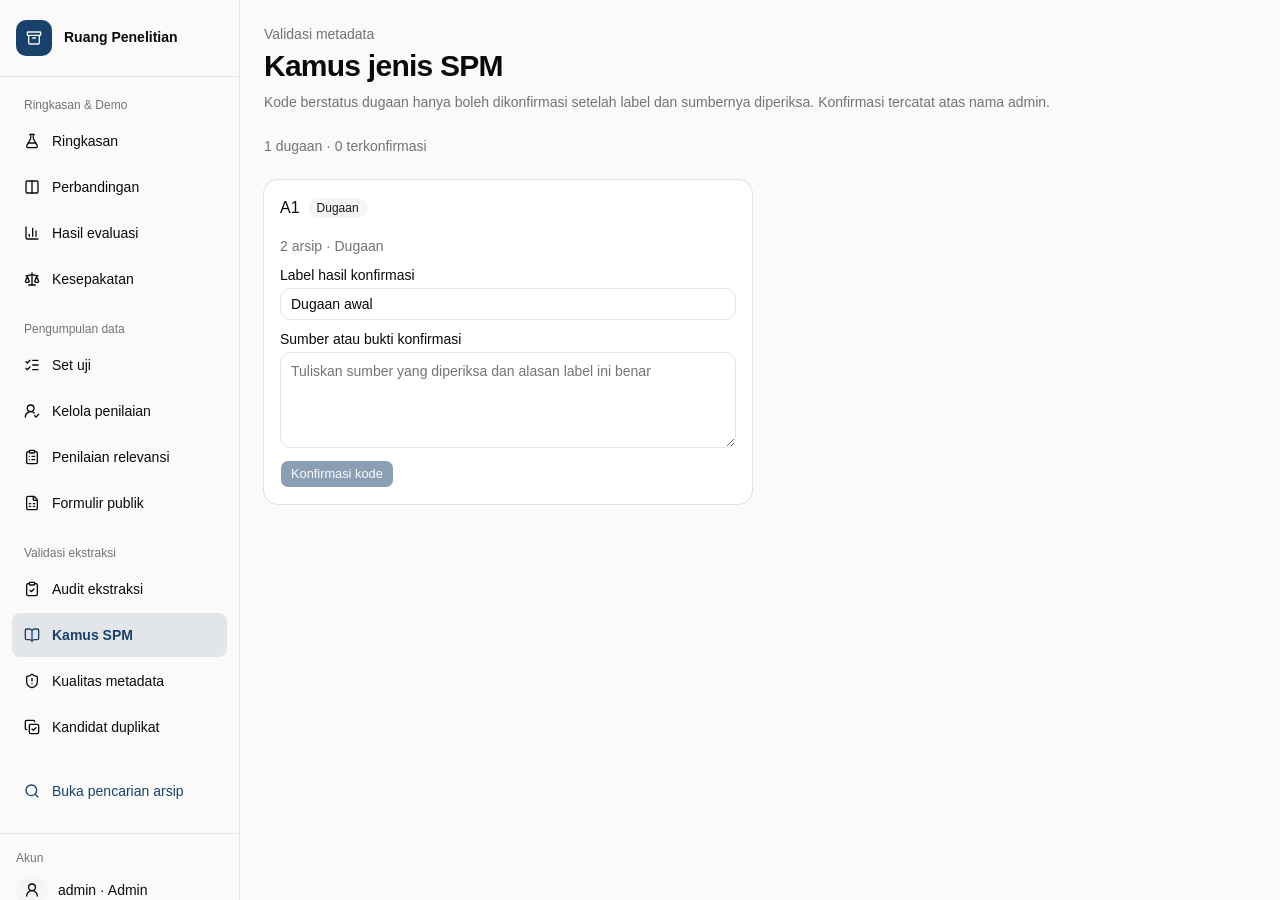
Test: audit ekstraksi dan kamus SPM › memerlukan sumber saat admin mengonfirmasi dugaan SPM
Expected: the button "Konfirmasi kode" is disabled, [280,460,394,488]
Replace the text in the field labelled "Label hasil konfirmasi" with "Jenis A" at coordinates (508, 304), box [280,288,736,320]
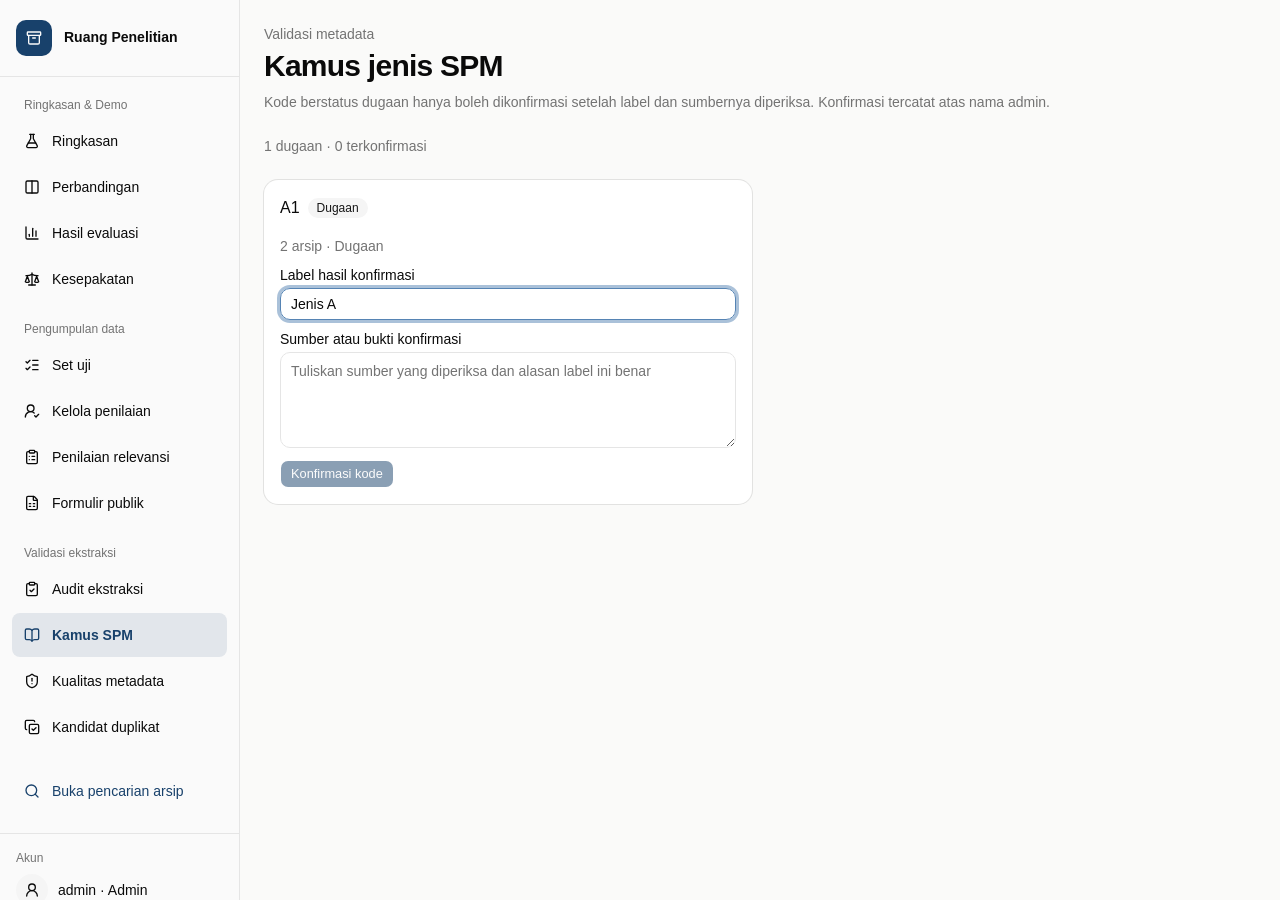
Type "Konfirmasi dari petugas" into the text box labelled "Sumber atau bukti konfirmasi" at coordinates (508, 400), box [280,352,736,448]
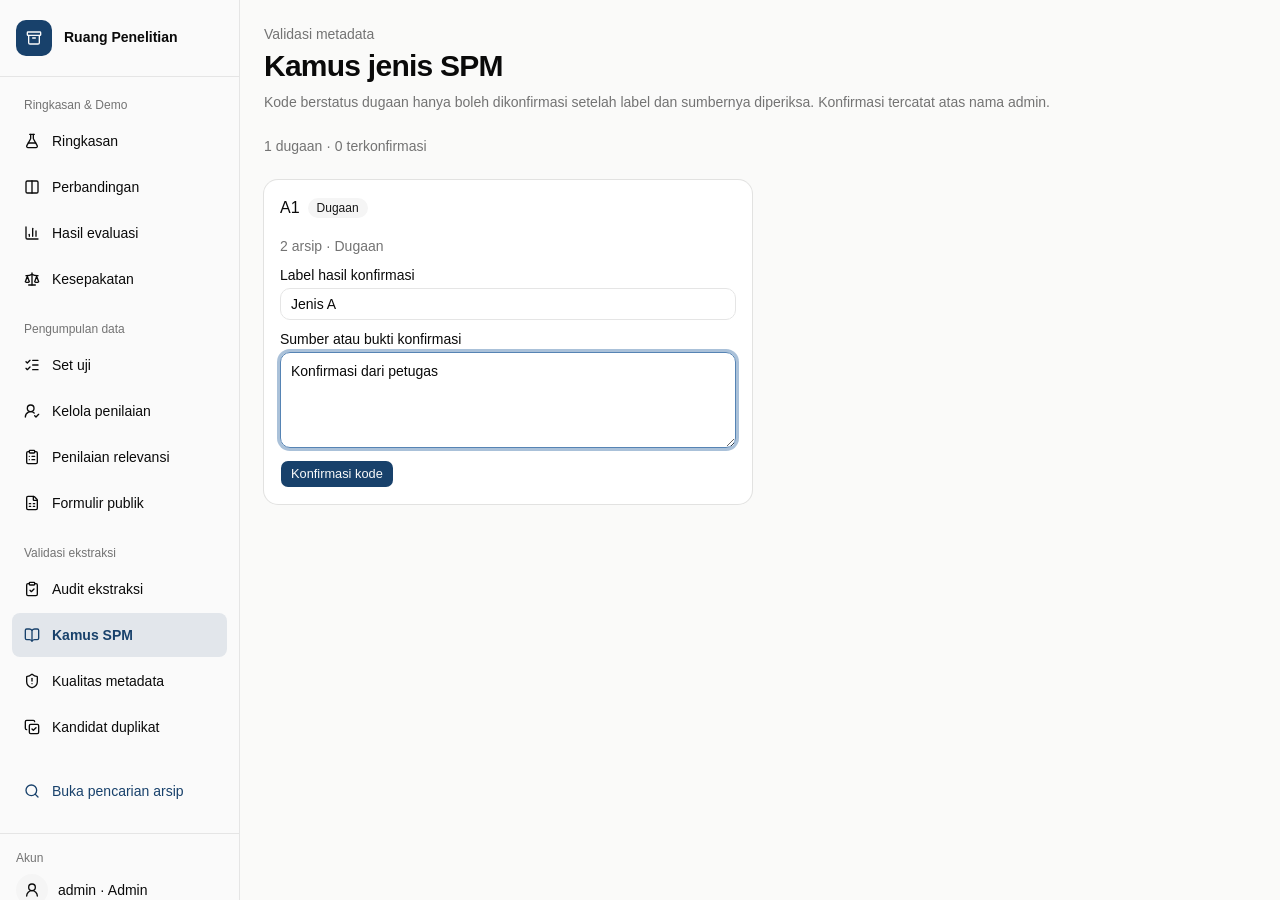
Click the button "Konfirmasi kode" at coordinates (337, 474), box [280,460,394,488]
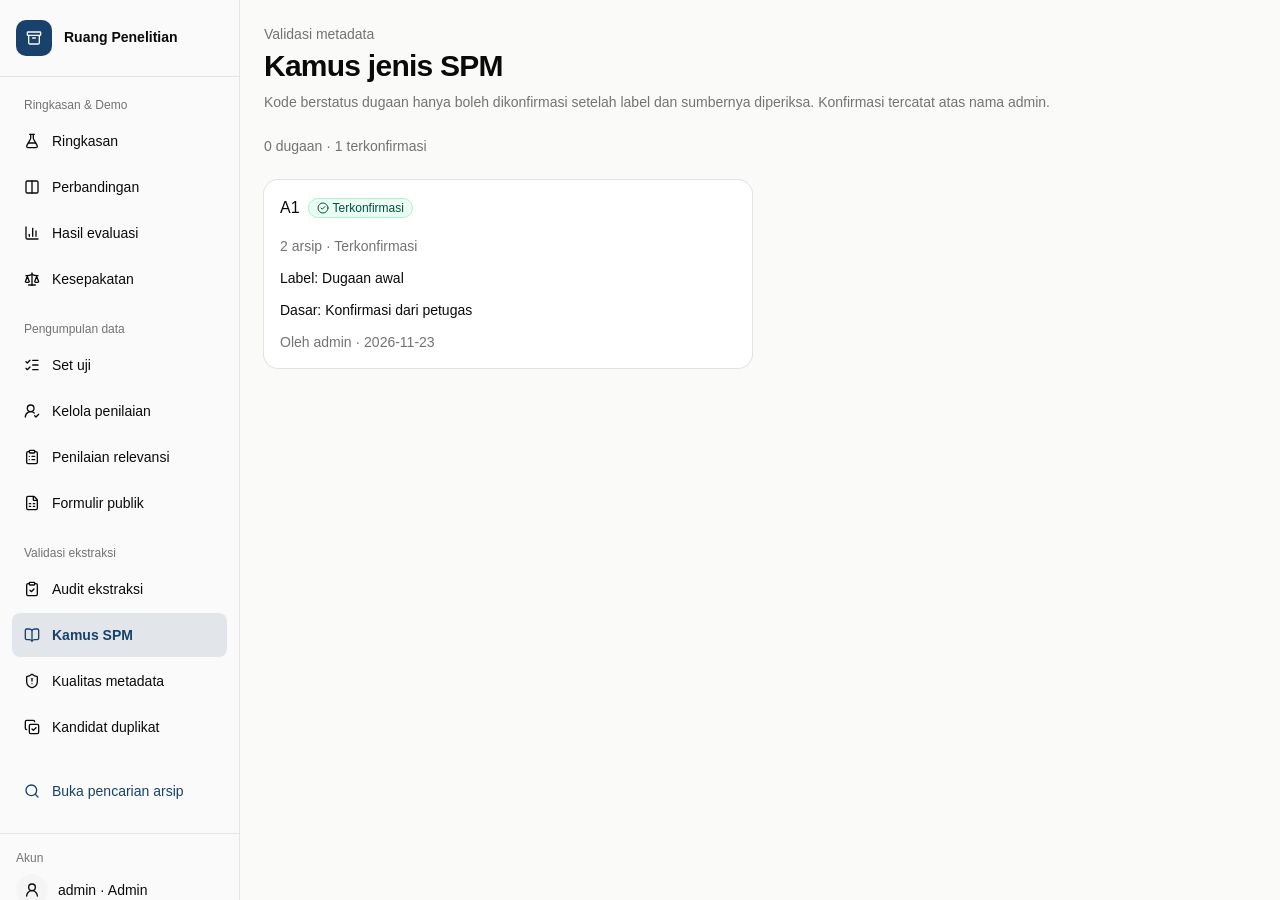
Expected: the text "2 arsip · Terkonfirmasi" is shown, [280,238,418,254]
